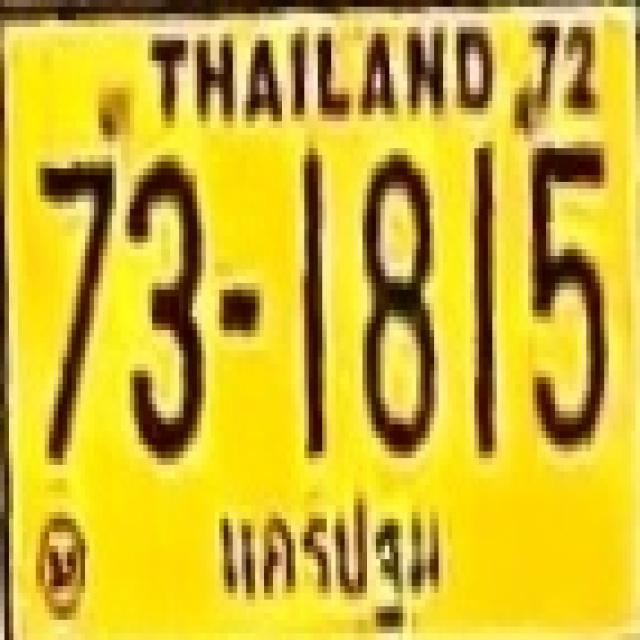1: (470, 138, 495, 459), (298, 148, 324, 452)
3: (126, 152, 202, 454)
5: (528, 142, 604, 444)
7: (36, 158, 112, 455)
8: (358, 148, 434, 452)
NPT: (208, 478, 454, 634)
